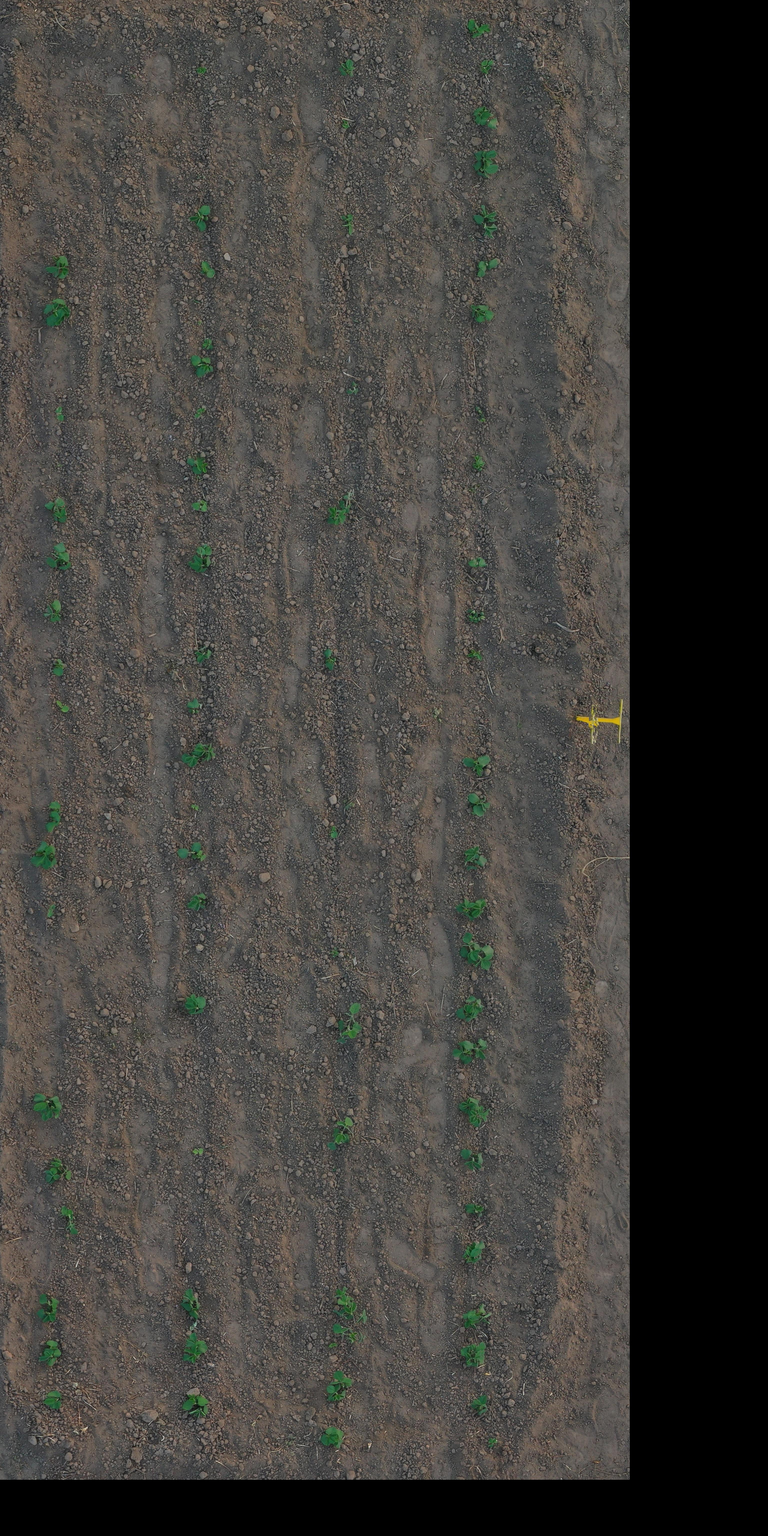s: (326, 1116, 354, 1151), (44, 1157, 72, 1184), (30, 840, 54, 870), (459, 932, 480, 965), (462, 754, 492, 777), (457, 1038, 488, 1060), (334, 1286, 354, 1320), (42, 303, 69, 327), (473, 214, 498, 239), (468, 792, 492, 817), (189, 204, 210, 232), (472, 159, 500, 180), (473, 943, 494, 971), (344, 1300, 368, 1324), (45, 256, 70, 279), (467, 1104, 490, 1128), (184, 1332, 209, 1354), (32, 1092, 50, 1122), (336, 1024, 363, 1044), (455, 898, 478, 921), (460, 1148, 484, 1170), (466, 18, 491, 39), (191, 742, 216, 763), (463, 846, 488, 867), (60, 1206, 78, 1235), (332, 1324, 358, 1344), (338, 1003, 362, 1024), (452, 1042, 474, 1064), (187, 554, 211, 573), (180, 1288, 201, 1309), (320, 1426, 342, 1446), (39, 1348, 62, 1367), (177, 842, 202, 859), (470, 1394, 489, 1416), (460, 1341, 486, 1357), (44, 599, 62, 622), (462, 1240, 485, 1258), (329, 1370, 352, 1388), (473, 105, 494, 124), (52, 298, 71, 319), (464, 995, 485, 1014), (458, 1096, 480, 1114), (182, 1397, 210, 1411), (46, 555, 72, 570), (43, 497, 67, 513), (43, 1390, 62, 1410), (182, 1345, 202, 1364), (186, 458, 208, 475), (455, 1005, 477, 1022), (190, 355, 206, 378), (46, 1096, 62, 1119), (327, 506, 346, 525), (187, 893, 206, 912), (180, 1302, 199, 1321), (473, 149, 497, 164), (326, 1384, 346, 1402), (462, 1309, 480, 1329), (39, 1293, 60, 1310), (476, 1303, 492, 1325), (479, 111, 498, 129), (53, 542, 70, 562), (184, 998, 204, 1015), (470, 898, 487, 918), (465, 1350, 485, 1367), (196, 543, 212, 564), (45, 812, 61, 833), (33, 1309, 56, 1323), (341, 214, 355, 236), (339, 59, 356, 77), (481, 204, 498, 222), (474, 794, 491, 812), (186, 994, 206, 1009), (465, 1203, 485, 1218), (324, 648, 337, 671), (52, 505, 68, 523), (464, 1248, 482, 1264), (181, 753, 200, 768), (478, 258, 498, 272), (338, 494, 352, 514), (188, 1405, 209, 1418), (200, 261, 216, 278), (470, 304, 489, 318), (474, 310, 494, 323), (195, 649, 212, 664), (200, 357, 214, 374), (187, 697, 200, 714), (48, 801, 61, 818), (334, 1428, 344, 1449), (345, 380, 358, 396), (472, 455, 485, 471), (468, 557, 488, 567), (477, 260, 488, 278), (53, 658, 64, 676), (467, 649, 483, 661), (56, 700, 70, 713), (191, 850, 206, 862), (49, 844, 57, 866), (191, 502, 208, 512), (46, 1340, 58, 1354), (54, 406, 64, 422), (202, 338, 214, 350), (480, 59, 489, 74), (487, 1437, 498, 1448), (467, 608, 479, 618), (52, 302, 59, 318), (47, 904, 55, 918), (485, 59, 494, 71), (330, 825, 338, 838), (477, 611, 486, 622), (341, 119, 350, 129), (188, 1394, 203, 1400), (192, 1148, 204, 1155), (469, 615, 478, 624), (197, 66, 207, 74), (194, 408, 202, 418), (480, 413, 486, 423), (191, 804, 199, 811), (476, 406, 482, 415), (200, 500, 208, 506), (201, 407, 206, 413)
